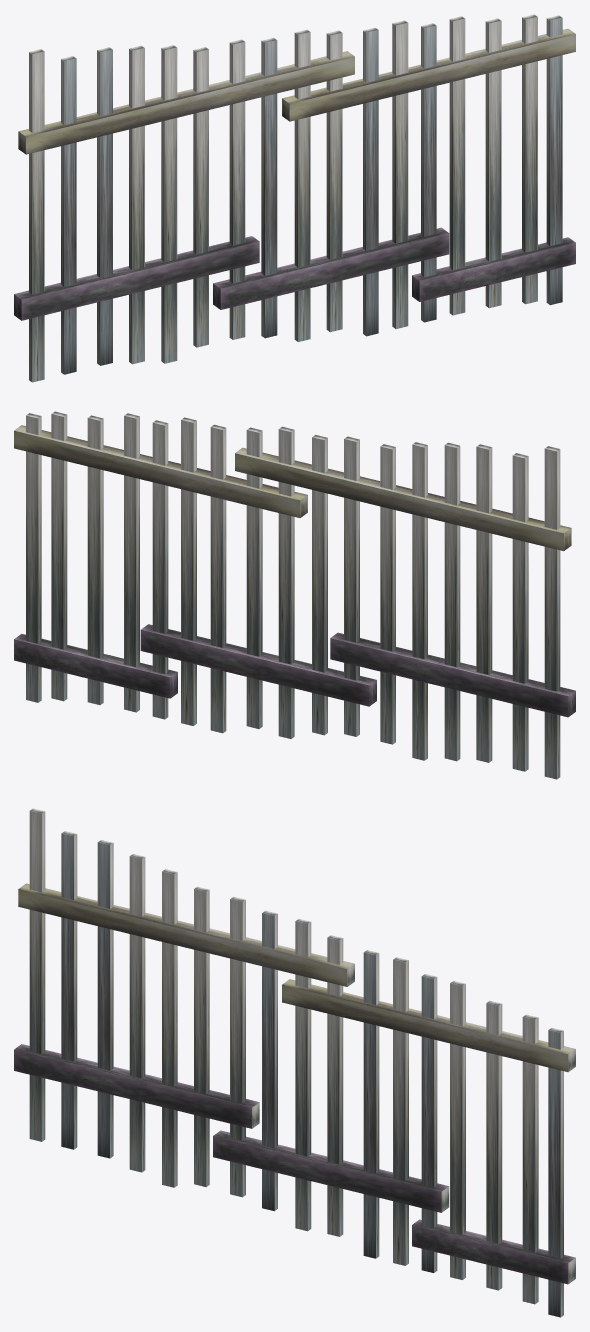
File: fence_10x5_slanted.DAE
The picture shows the model from 3 angles, top to bottom: view 1: azimuth 30°, elevation 25°; view 2: azimuth 150°, elevation 25°; view 3: azimuth 330°, elevation 25°; orthographic projection.
Visible parts, largest first — view 1: Object01; view 2: Object01; view 3: Object01.
Part boxes in pixels (x1=…): Object01: x1=14, y1=14, x2=575, y2=382; Object01: x1=14, y1=411, x2=575, y2=779; Object01: x1=14, y1=808, x2=575, y2=1317.
Size of the model in its own units: 11.16 by 7.26 by 0.267.
